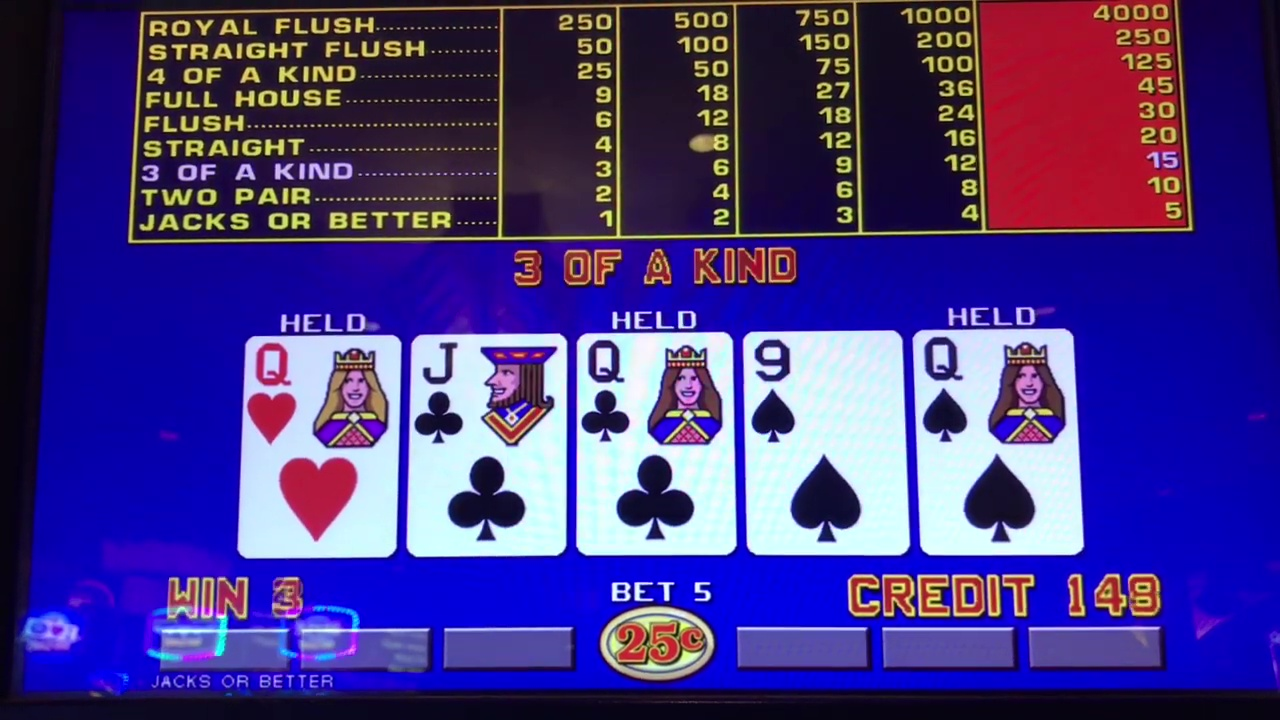CJ: (415, 334, 556, 453)
CQ: (584, 333, 720, 452)
HQ: (250, 338, 385, 455)
S9: (749, 334, 901, 451)
SQ: (925, 337, 1071, 452)
